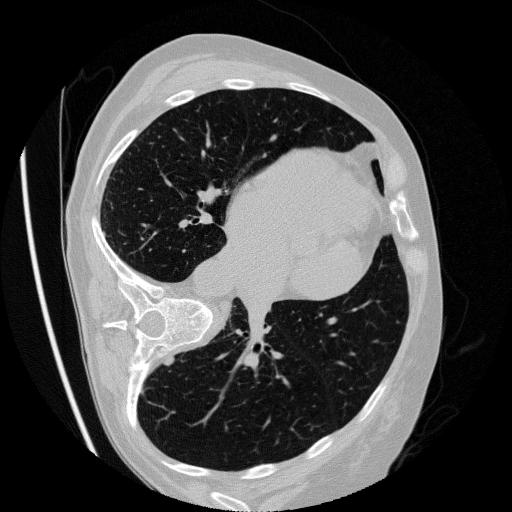nodule: (163, 356, 179, 372)
